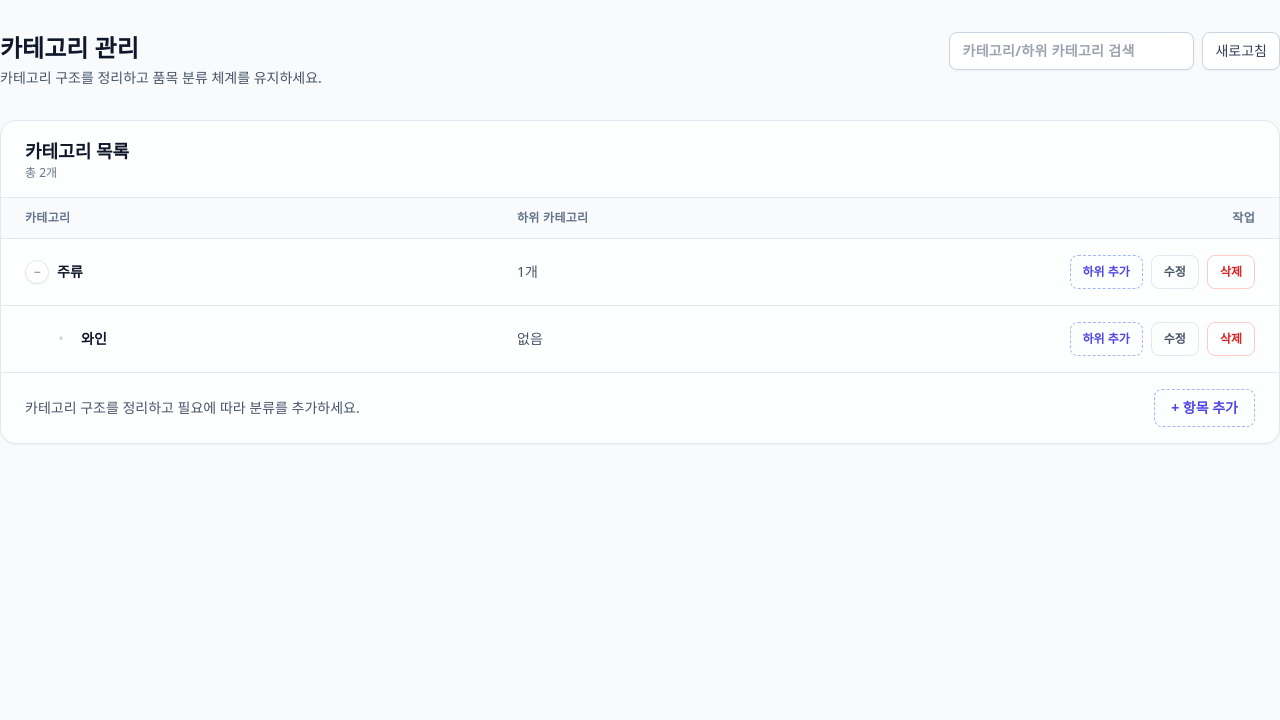
Test case: CategoryManagementPanel › blocks deletion when a category has children
Click the button "삭제" in the row of "주류". click: click(1231, 272)
box: x1=1207 y1=255 x2=1255 y2=289
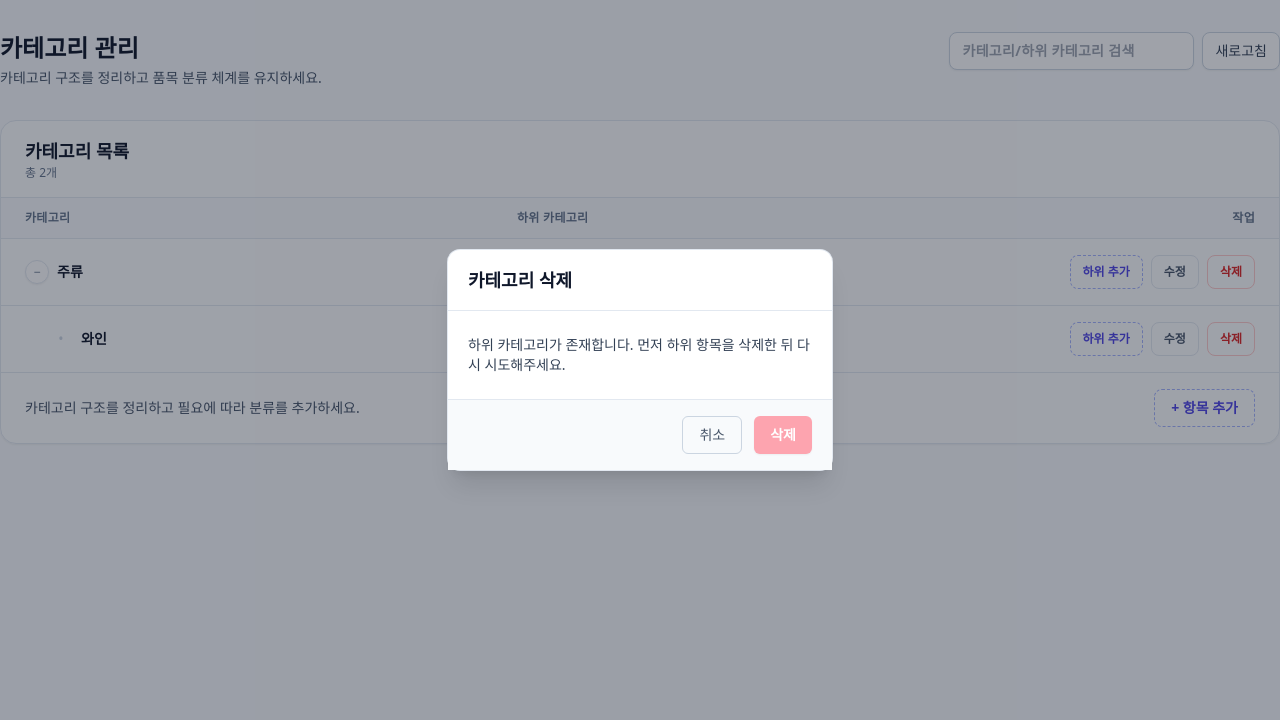
Expected: the button "삭제" is disabled, x1=754 y1=416 x2=812 y2=454
